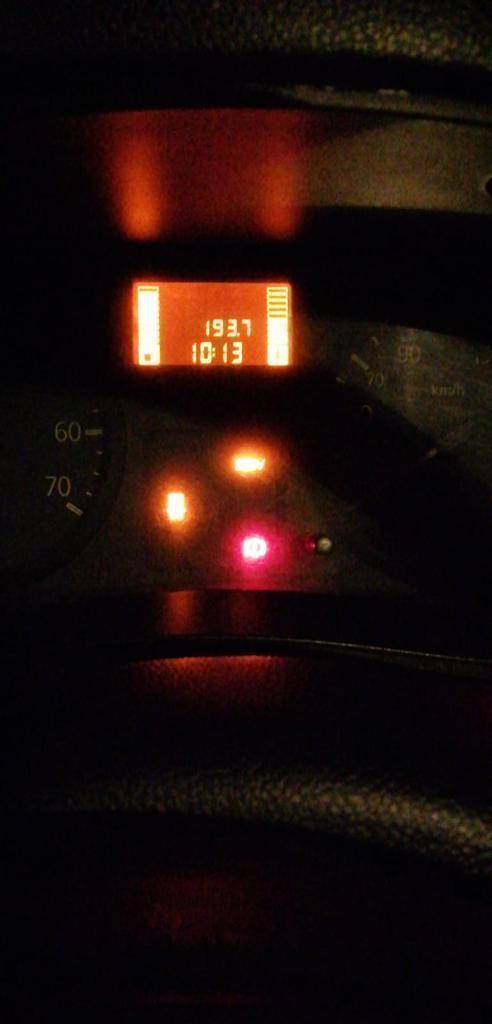,: (237, 331, 240, 337)
0: (199, 340, 211, 365)
1: (189, 341, 198, 363), (220, 340, 228, 363), (203, 319, 210, 336)
3: (230, 340, 243, 365), (225, 317, 237, 337)
7: (241, 317, 251, 337)
9: (212, 317, 224, 337)
X: (212, 345, 216, 359)
odometer: (125, 275, 299, 371)
